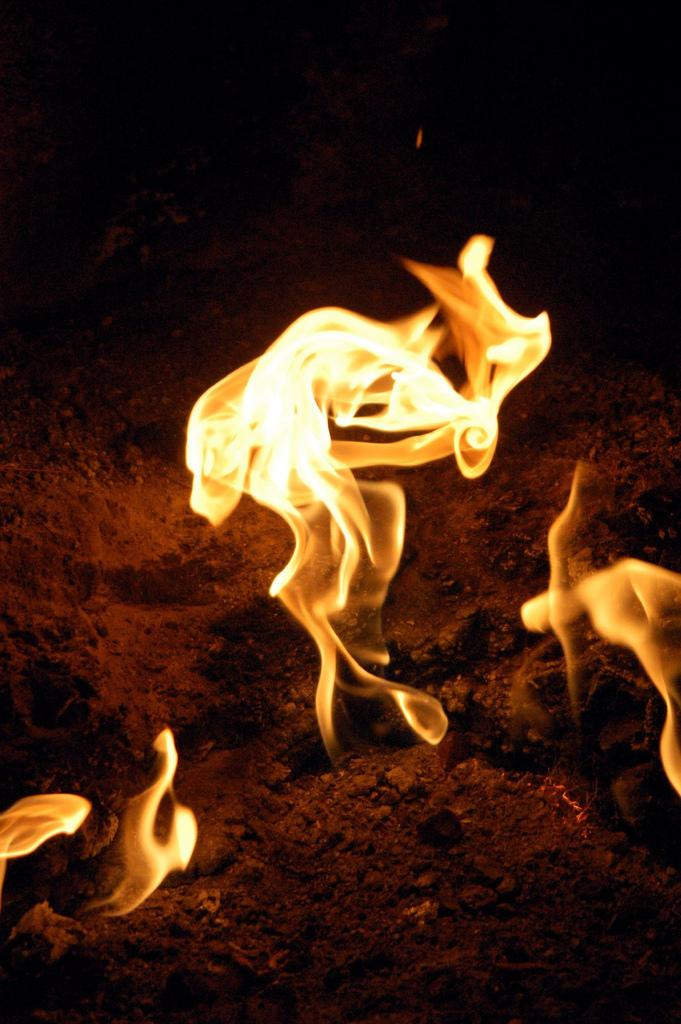fire: (200, 382, 325, 495), (282, 325, 402, 378), (408, 382, 495, 448)
